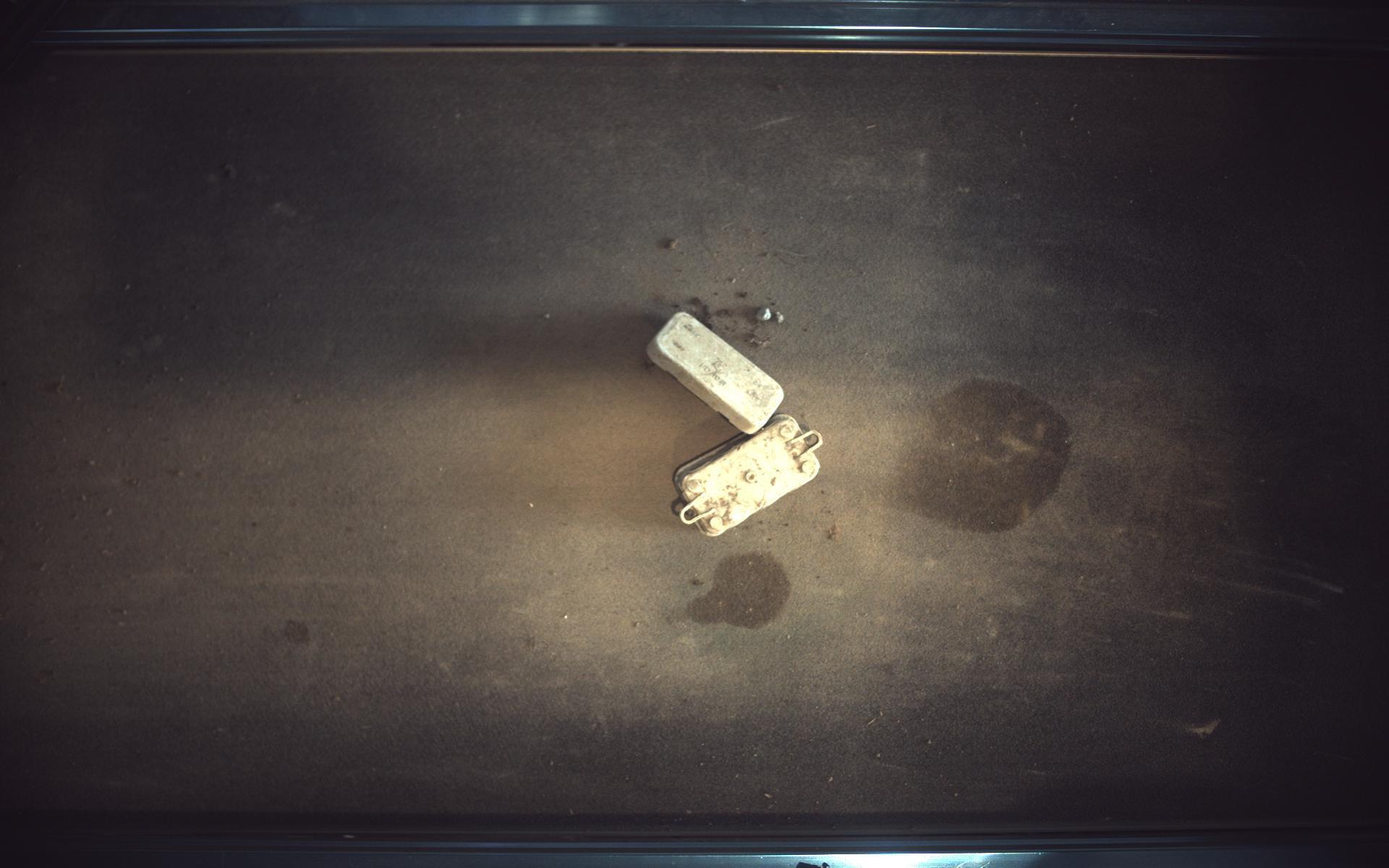plastic: (674, 414, 824, 537), (649, 312, 785, 434)
